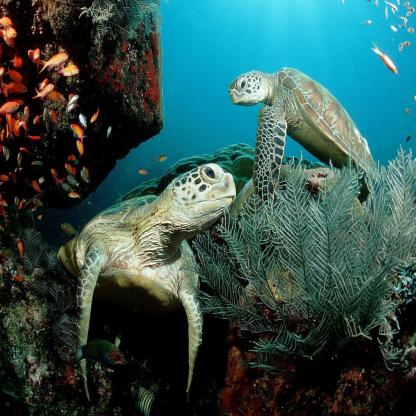turtle: (159, 158, 239, 237), (216, 68, 276, 112)
